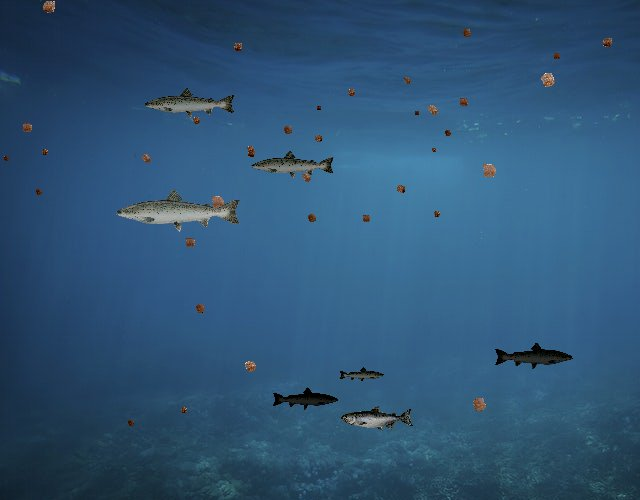Fish: (114, 187, 243, 233), (143, 86, 237, 120), (250, 149, 336, 180), (494, 341, 575, 370), (342, 406, 415, 432), (272, 386, 340, 410), (339, 367, 386, 384)
Pellet: (238, 354, 263, 379), (457, 24, 476, 43), (343, 84, 360, 101), (176, 403, 191, 418), (429, 207, 444, 221), (124, 416, 138, 430), (38, 145, 52, 159)
